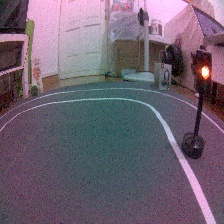amber: (180, 45, 213, 162)
